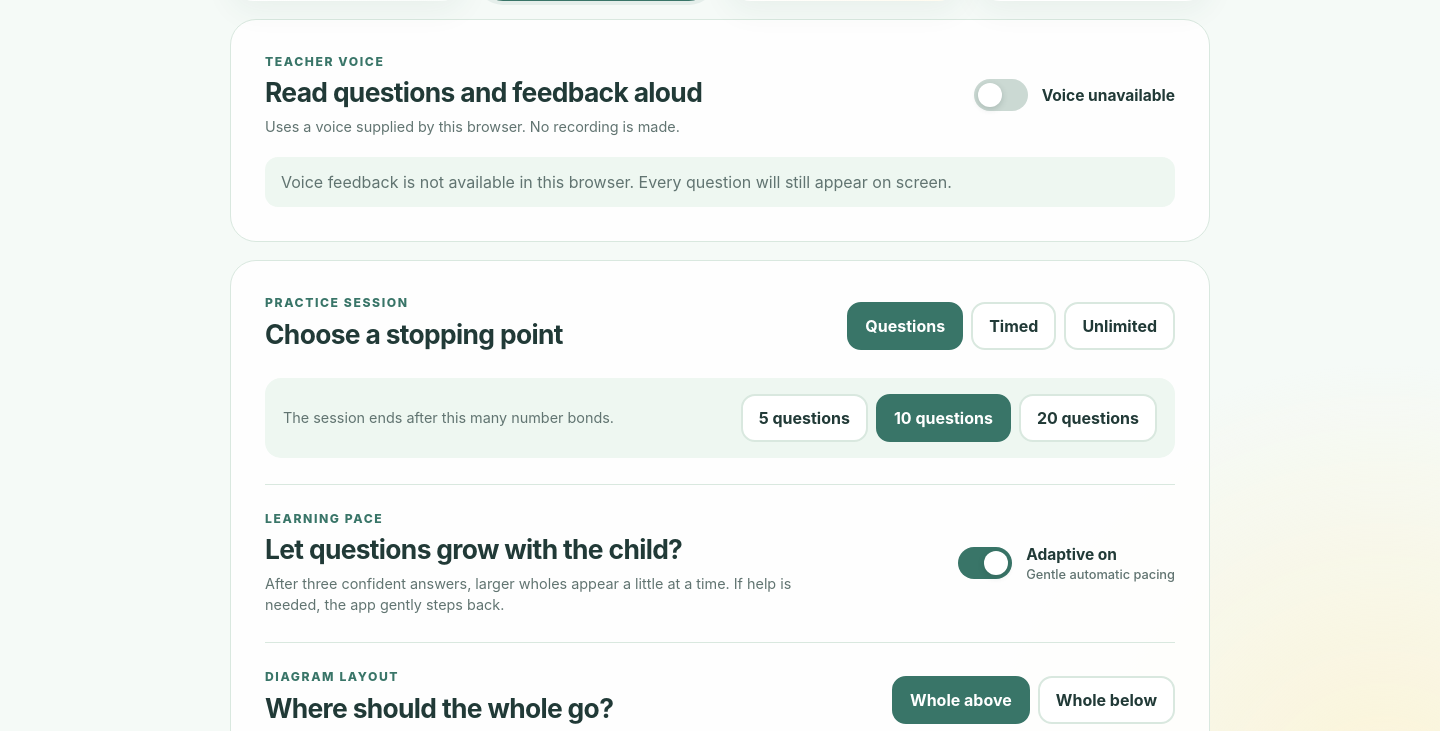
Test: App flow › lets an adult choose timed, unlimited, and adaptive practice
(page scrolled)
Click the button "Timed".
click(1014, 326)  # box x1=971 y1=302 x2=1056 y2=350
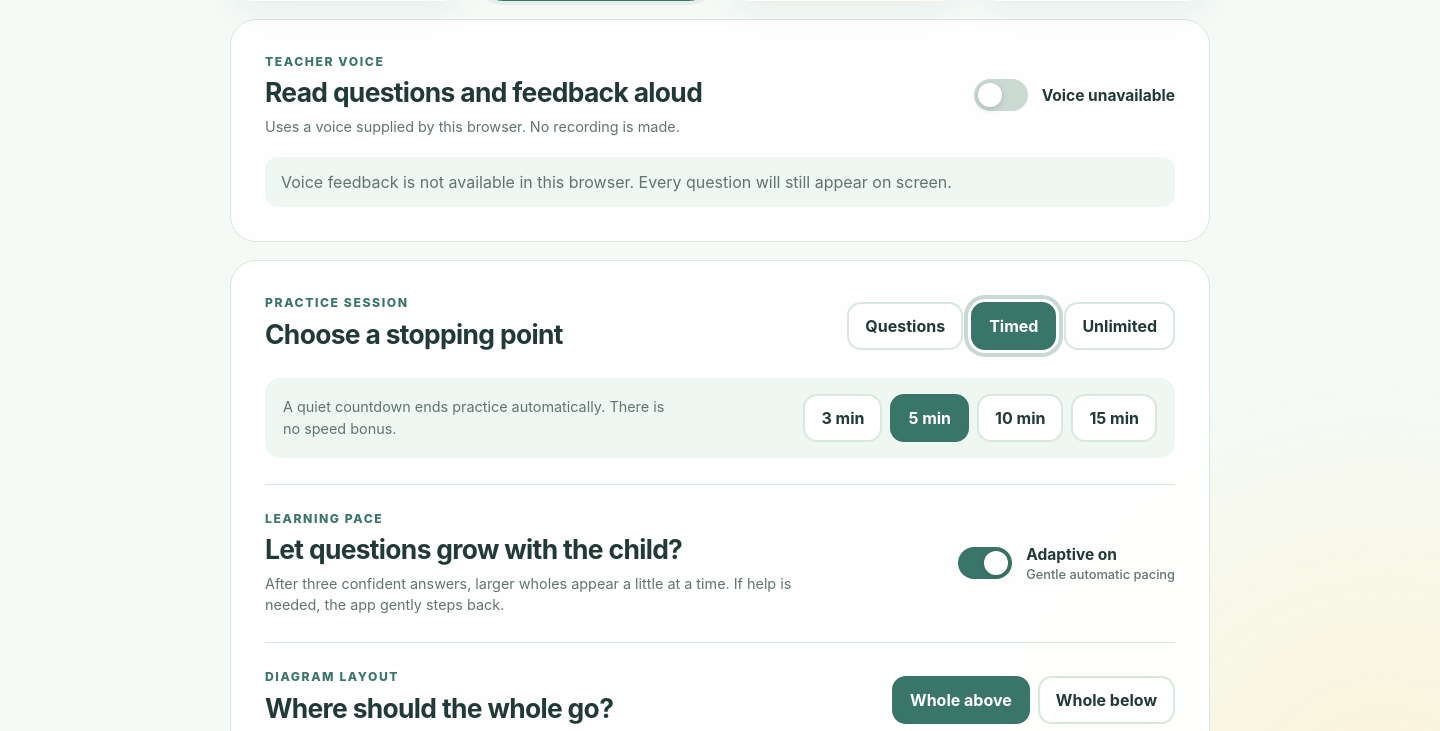
Click the button "3 min".
click(843, 418)  # box x1=803 y1=394 x2=882 y2=442
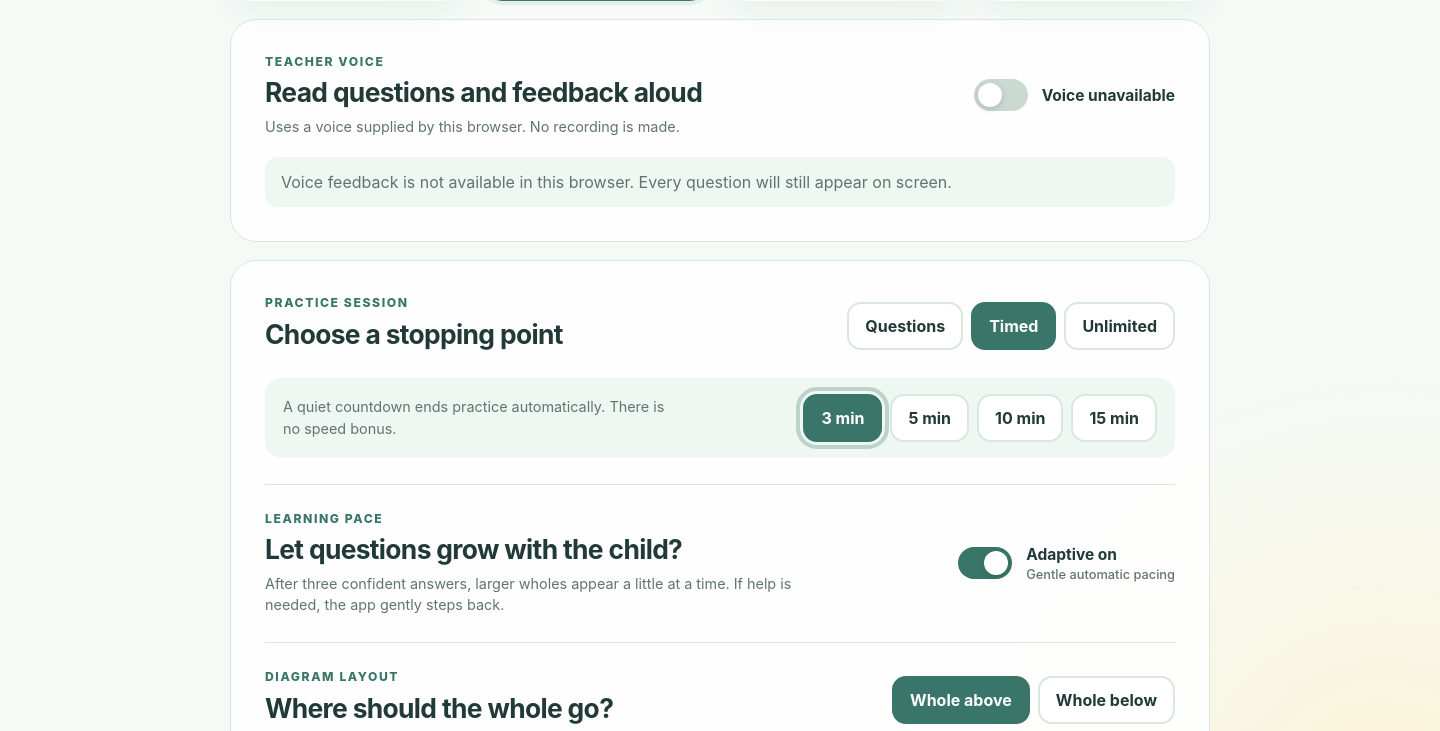
Click the checkbox labelled "Adaptive on Gentle automatic pacing".
click(1067, 563)  # box x1=958 y1=545 x2=1175 y2=582
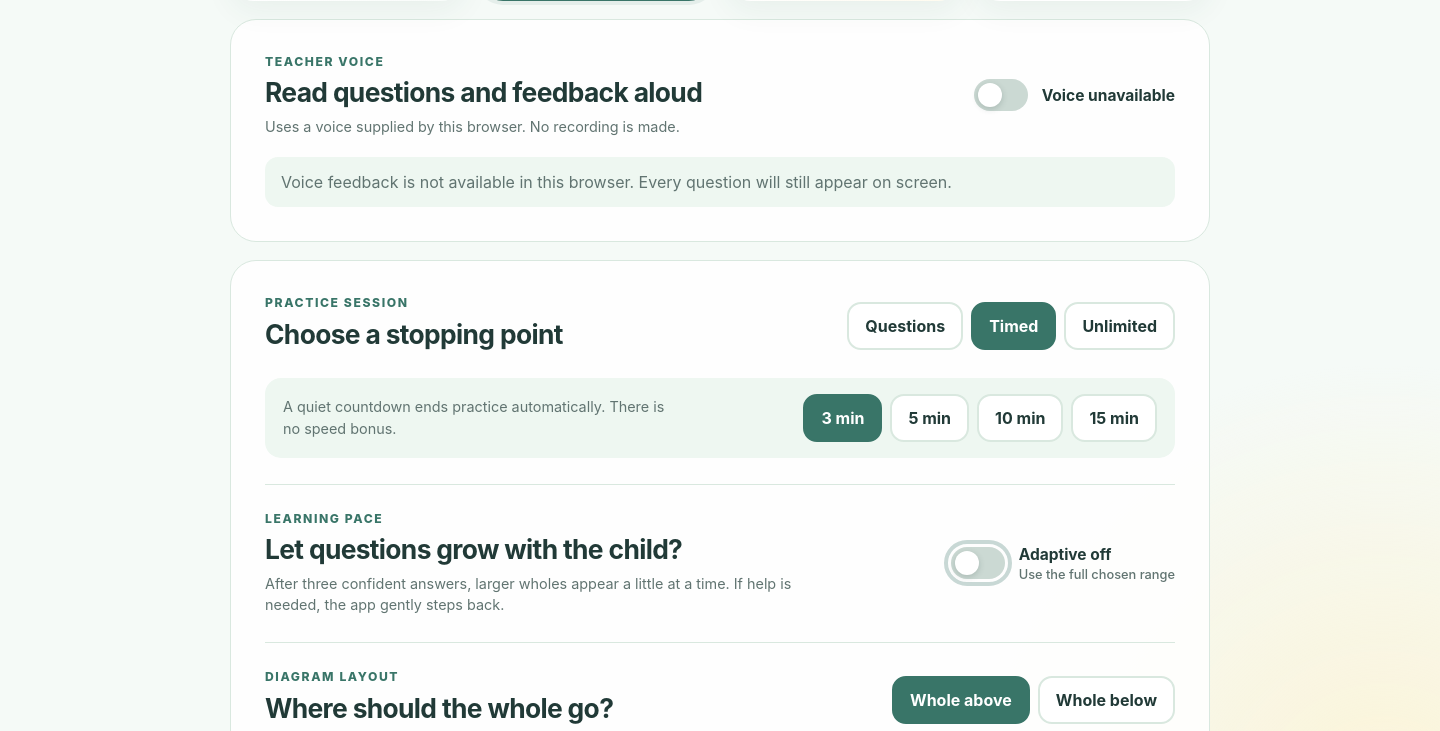
Click the button "Unlimited".
click(1120, 326)  # box x1=1064 y1=302 x2=1175 y2=350
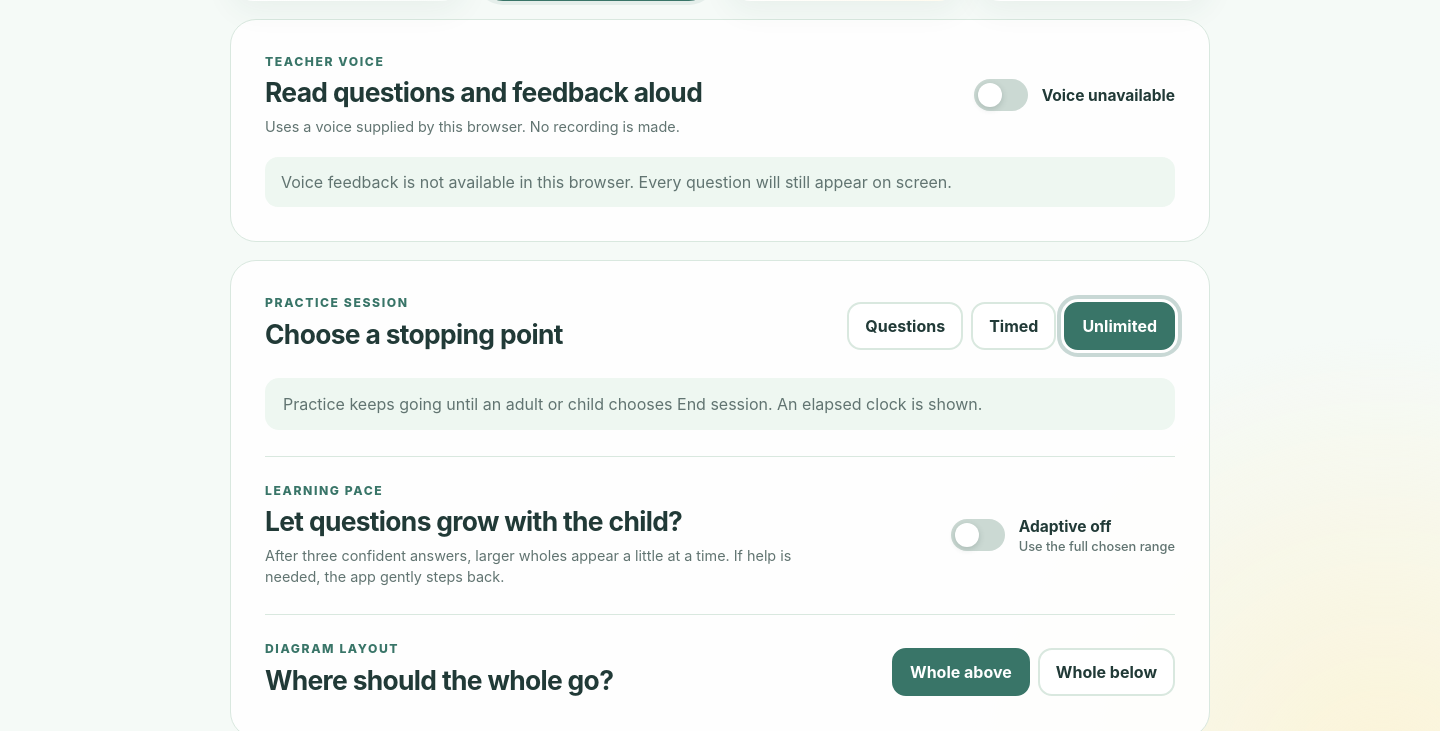
Check: the text "elapsed clock is shown" is shown, box x1=283 y1=394 x2=982 y2=414
